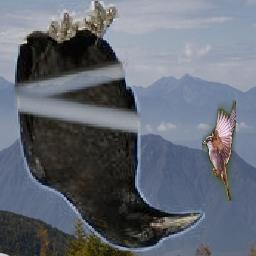Crow: (13, 2, 206, 253)
Sparrow: (202, 101, 236, 202)
